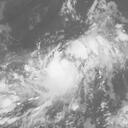cyclone: (36, 55, 82, 98)
